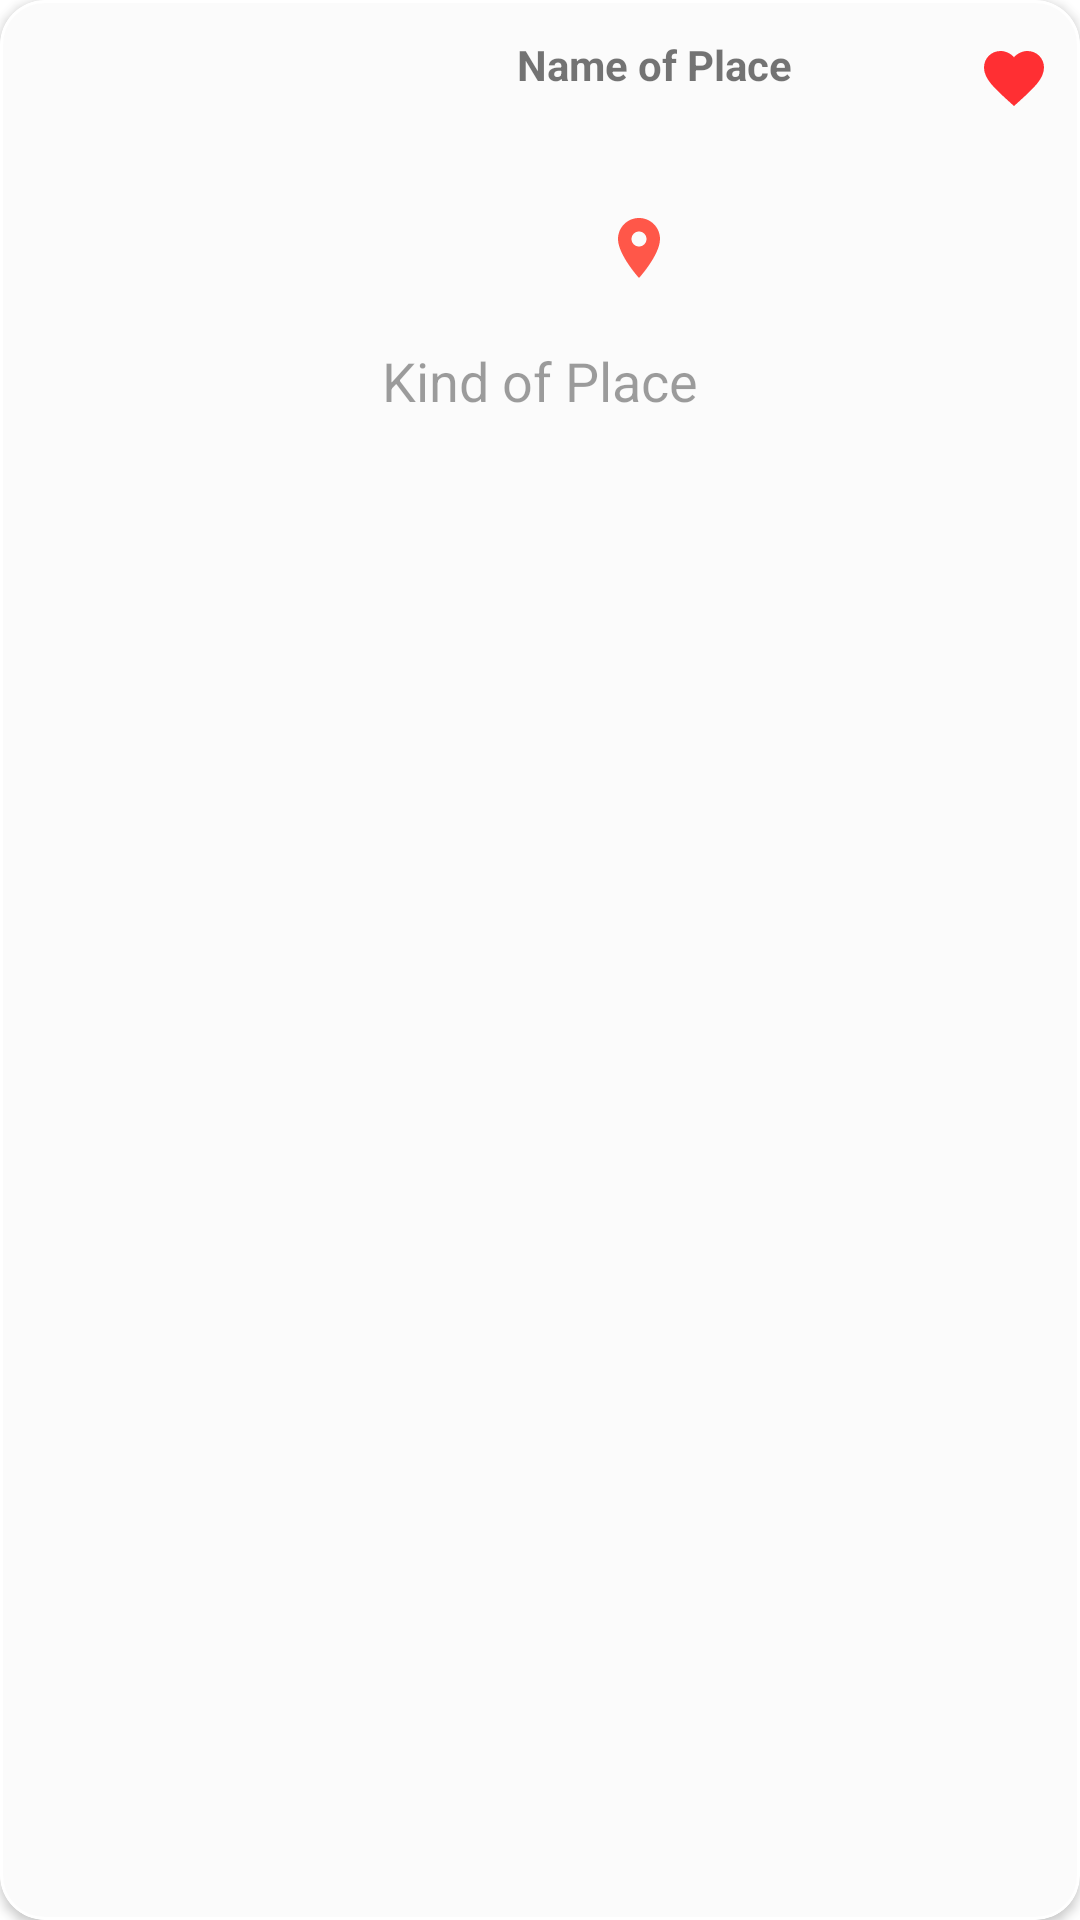

Icons on this 1080w x 1920h Android screen, each with the point to tap as point (x, y):
favorite: point (1014, 78)
geo: point (639, 248)
